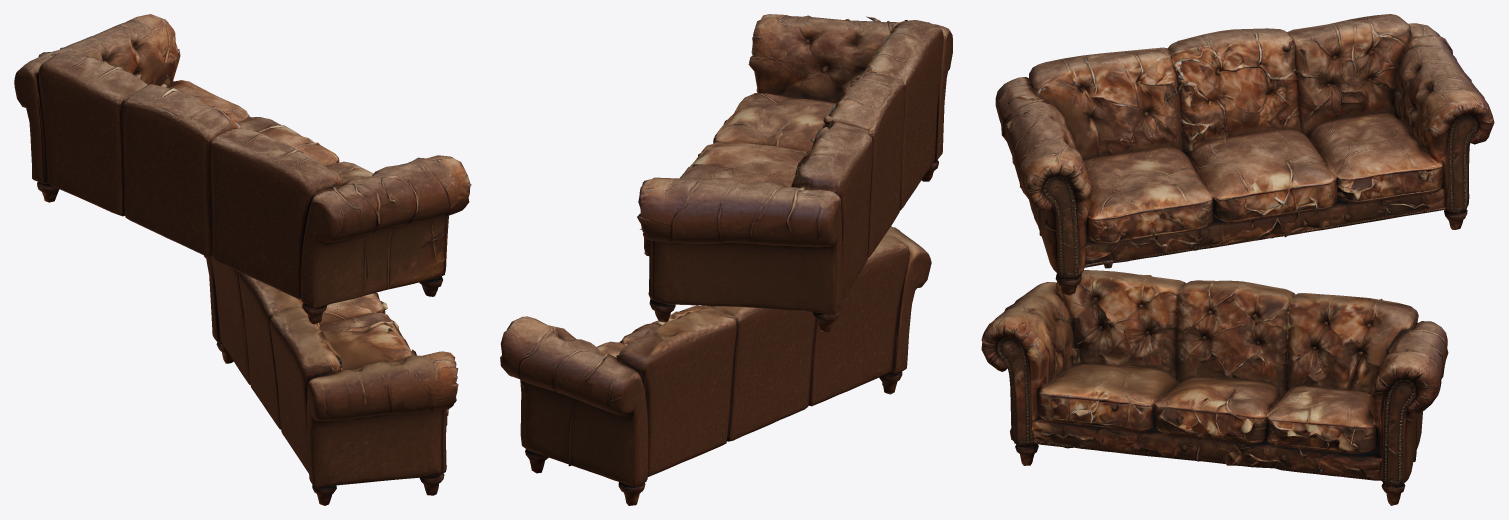
3 renders of one model, left to right at view 1: azimuth 30°, elevation 25°; view 2: azimuth 150°, elevation 25°; view 3: azimuth 270°, elevation 25°, orthographic. The views are drawn at different scales.
Parts seen in each view (by area): view 1: tripo_node_55a95032-2a93-4dbb-87cb-566f2a48686c; view 2: tripo_node_55a95032-2a93-4dbb-87cb-566f2a48686c; view 3: tripo_node_55a95032-2a93-4dbb-87cb-566f2a48686c.
Part boxes in pixels (bbox=[...]): tripo_node_55a95032-2a93-4dbb-87cb-566f2a48686c: bbox=[14, 14, 471, 505]; tripo_node_55a95032-2a93-4dbb-87cb-566f2a48686c: bbox=[500, 14, 952, 505]; tripo_node_55a95032-2a93-4dbb-87cb-566f2a48686c: bbox=[981, 14, 1494, 505].
Size of the model in its own units: 0.7148 by 0.781 by 1.
Materials: 1 (1 with a texture image).
